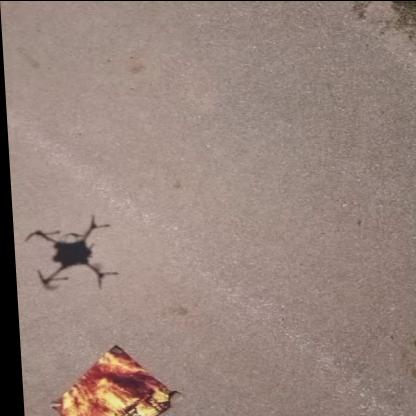fire-poster: (40, 343, 180, 416)
